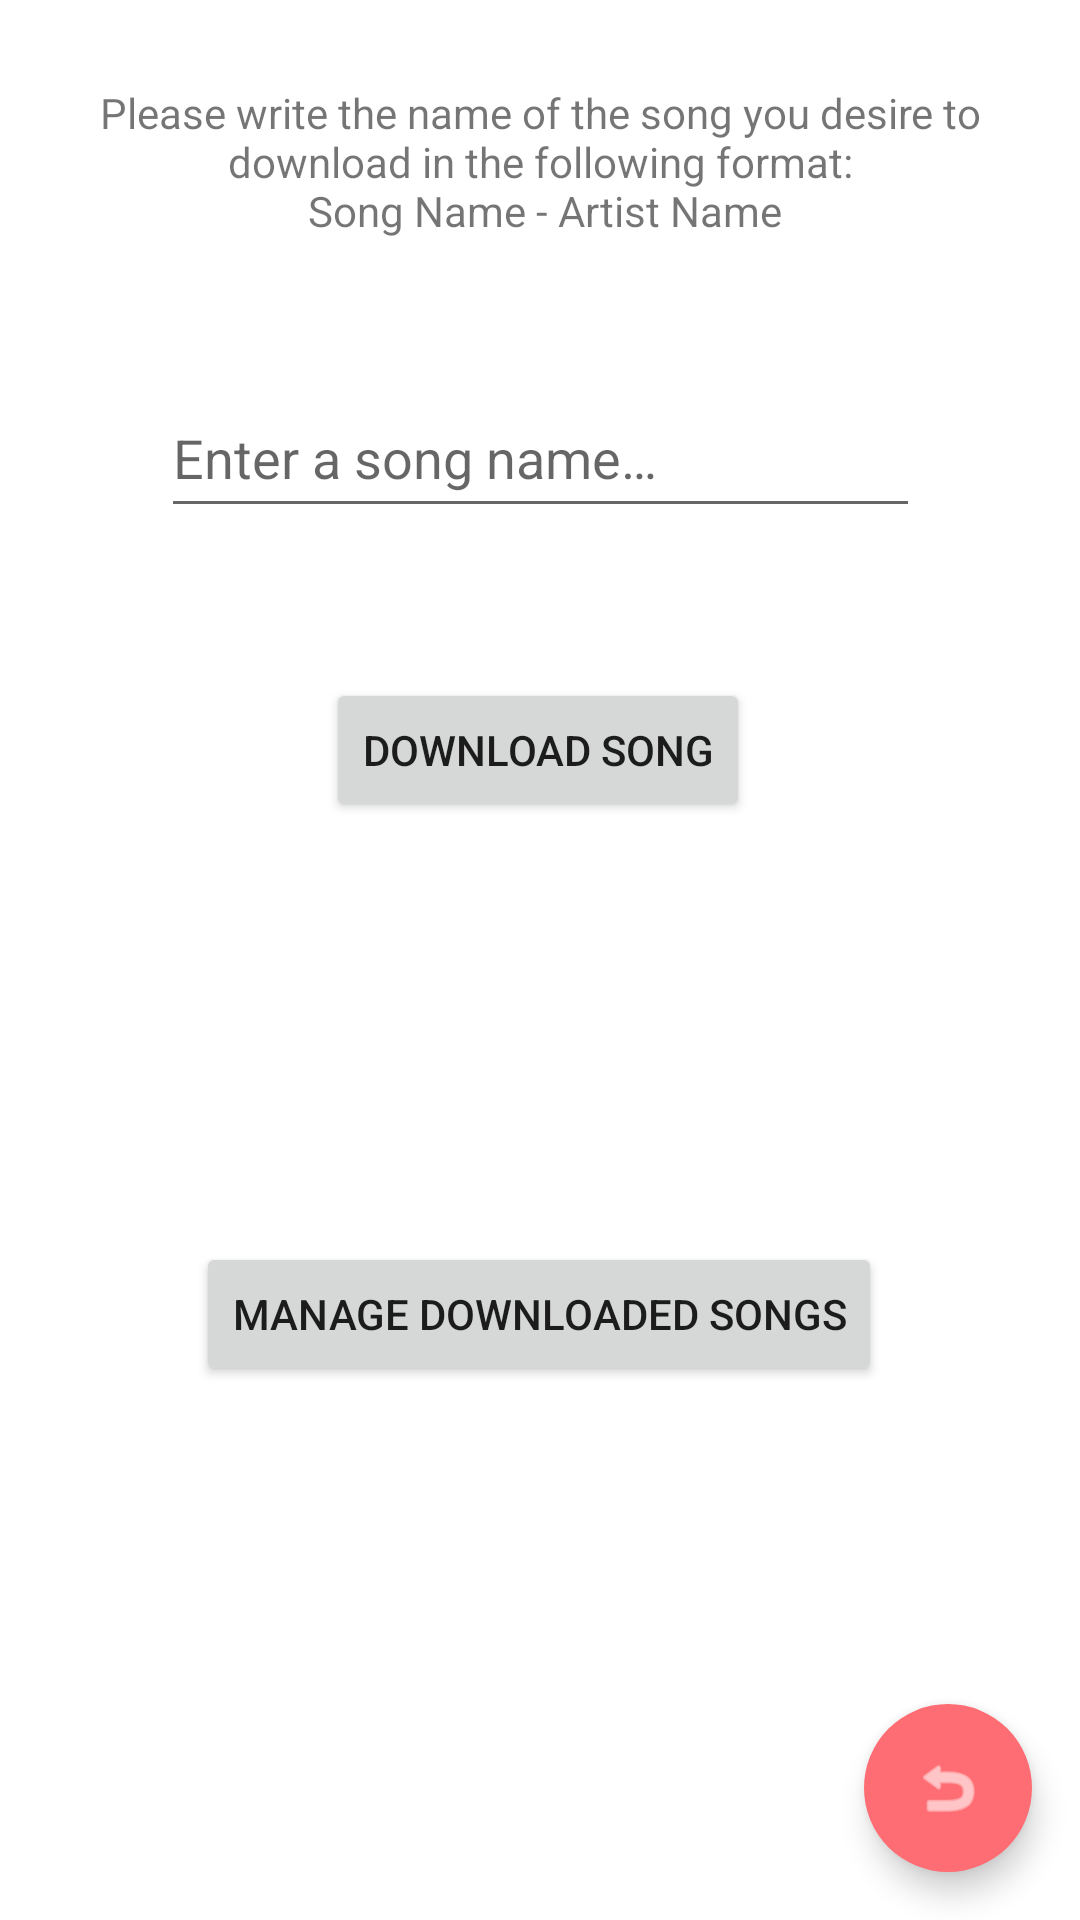

Named icons in this screenshot (1080 x 1920) and their bounding boxes, (x1, y1, x2, y2):
revert: (864, 1704, 1032, 1872)
